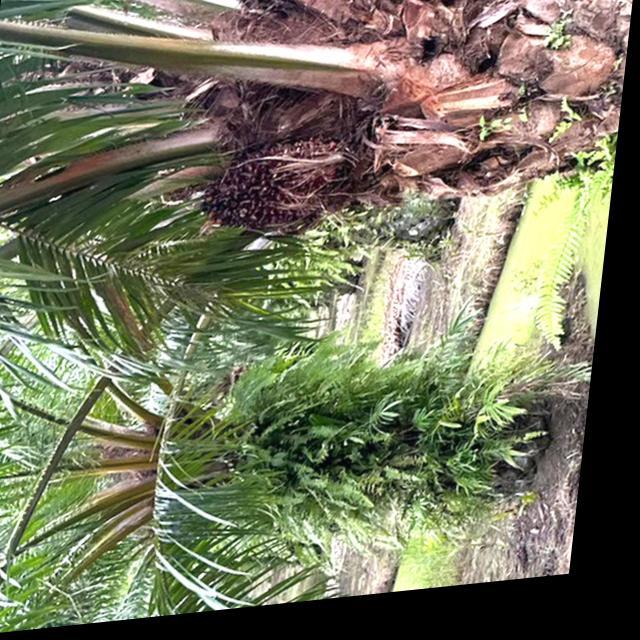ripe: (188, 143, 373, 264)
